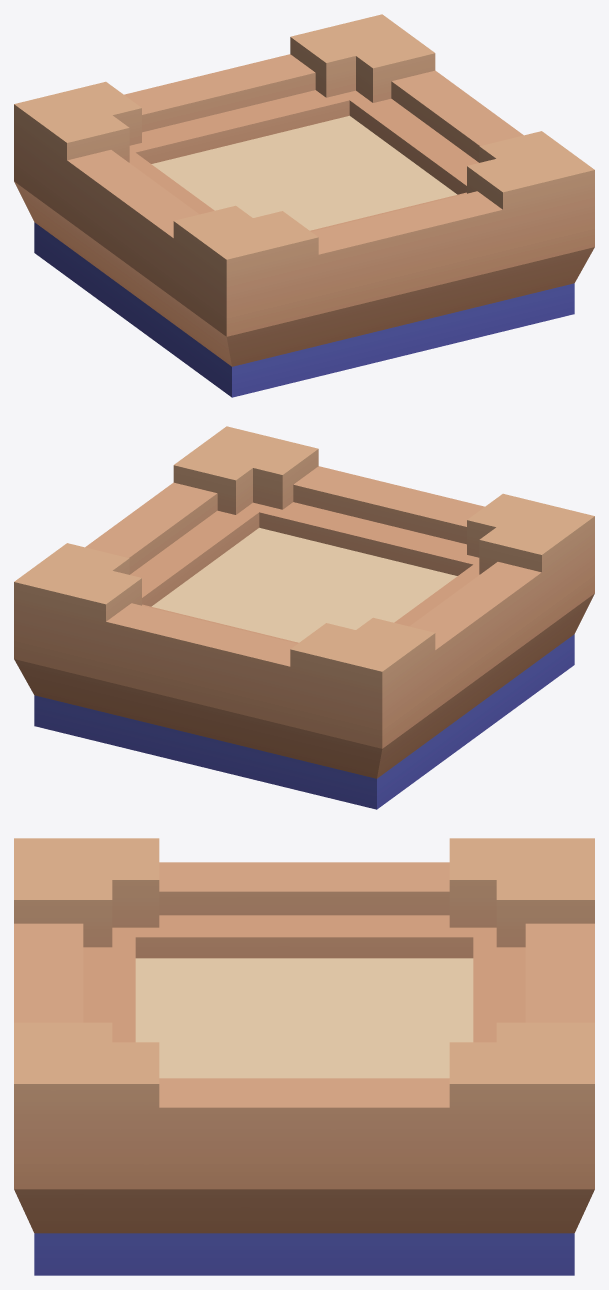
The model's file is tower-square-top-color.glb.
3 views of the same model, one above another, from view 1: azimuth 30°, elevation 25°; view 2: azimuth 150°, elevation 25°; view 3: azimuth 270°, elevation 25° (orthographic). The views are drawn at different scales.
Parts seen in each view (by area): view 1: tower-square-top-color; view 2: tower-square-top-color; view 3: tower-square-top-color.
Part boxes in pixels (bbox=[...]): tower-square-top-color: bbox=[14, 14, 594, 397]; tower-square-top-color: bbox=[14, 426, 594, 809]; tower-square-top-color: bbox=[14, 838, 594, 1275].
Bounding box in the file's own units: 1 × 0.38 × 1.
Materials: 1 (1 with a texture image).
